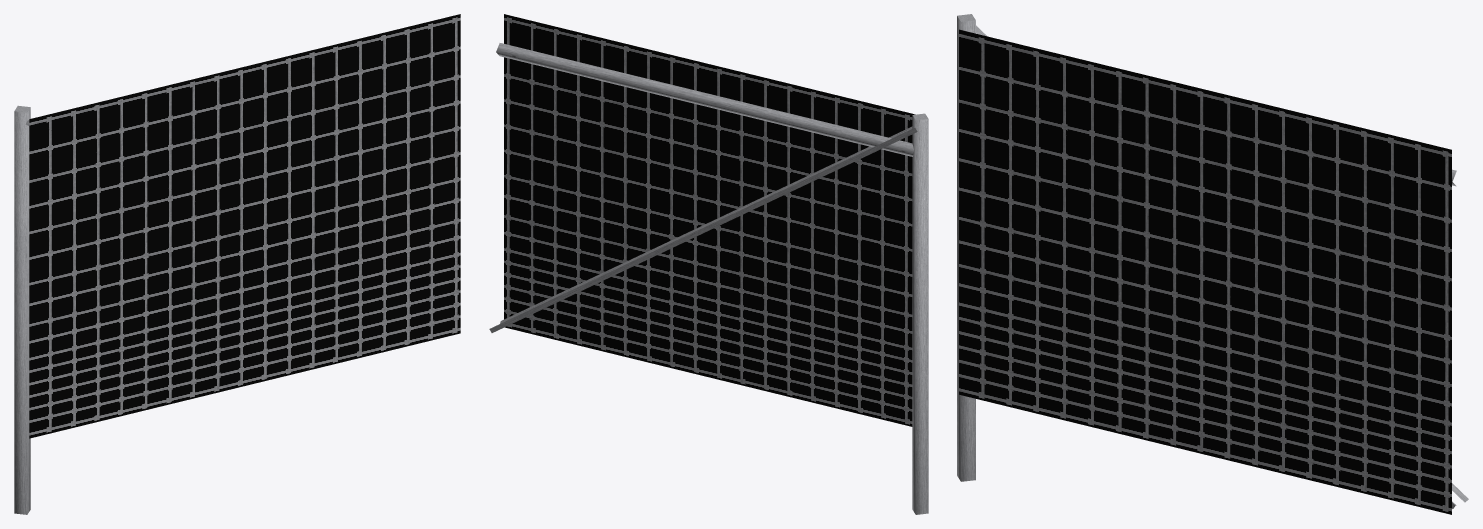
Rendered from fence-tall-mesh-end-cbj_LOD02.gltf.
3 views of the same model, side by side, from view 1: azimuth 30°, elevation 25°; view 2: azimuth 150°, elevation 25°; view 3: azimuth 330°, elevation 25° (orthographic). The views are drawn at different scales.
Visible parts, largest first — view 1: Cube.002; view 2: Cube.002; view 3: Cube.002.
Boxes of the visible parts, x1,y1,x2,y2 form: Cube.002: (14, 14, 460, 514); Cube.002: (489, 14, 928, 514); Cube.002: (957, 14, 1468, 514).
Size of what is drawn, in the model's own units: 2.68 by 2.33 by 0.1227.
